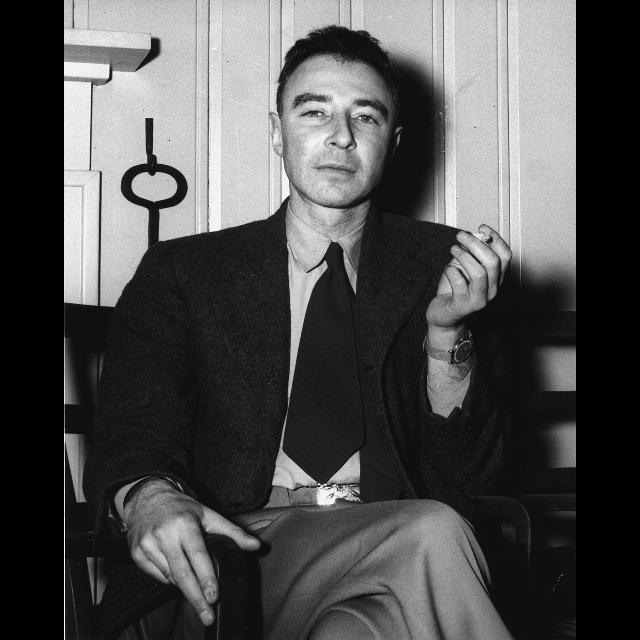rokok: (472, 222, 491, 242)
